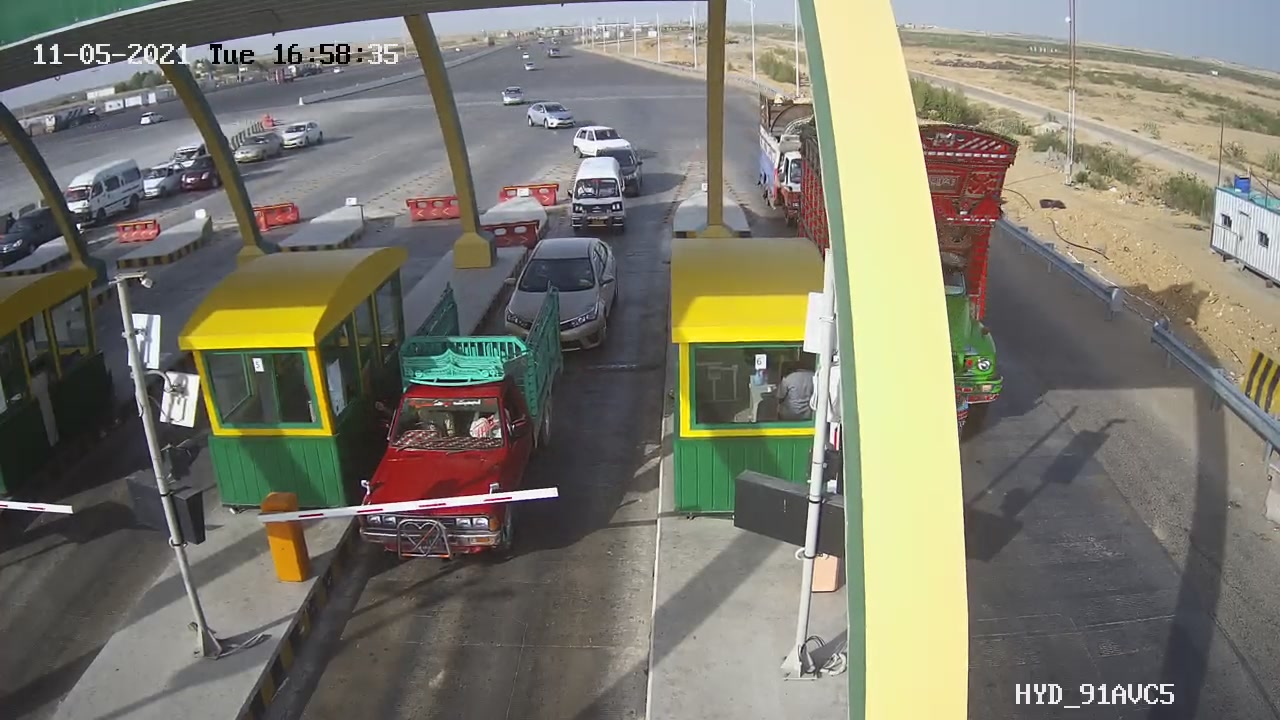F1: (363, 286, 569, 568), (492, 219, 631, 372), (554, 149, 644, 249)
